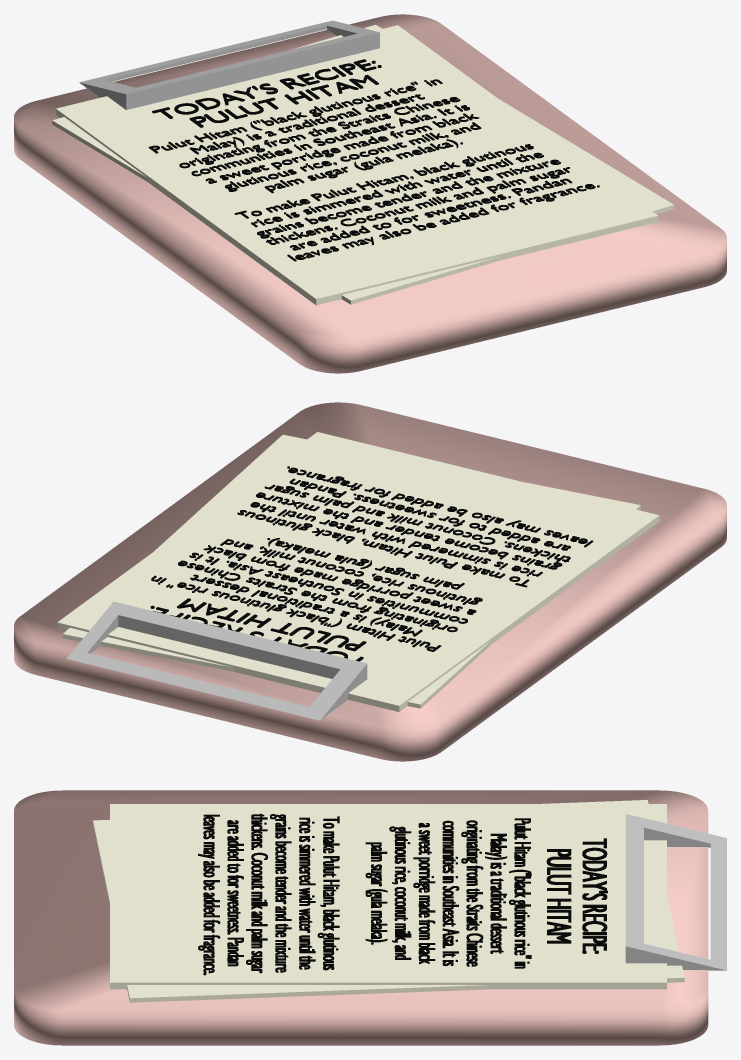
File: PHclipboard.fbx
The picture shows the model from 3 angles, top to bottom: view 1: azimuth 30°, elevation 25°; view 2: azimuth 150°, elevation 25°; view 3: azimuth 270°, elevation 25°; orthographic projection. The views are drawn at different scales.
Parts seen in each view (by area): view 1: Cube.004, obj_0.005, Text.003, Cube.003, Cube.005, Text.004; view 2: Cube.004, obj_0.005, Text.003, Cube.003, Cube.005, Text.004; view 3: Cube.004, obj_0.005, Text.003, Cube.003, Cube.005, Text.004.
Part boxes in pixels (bbox=[...]): Cube.004: bbox=[56, 25, 658, 305]; obj_0.005: bbox=[14, 14, 726, 373]; Text.003: bbox=[148, 79, 599, 261]; Cube.003: bbox=[79, 20, 379, 109]; Cube.005: bbox=[52, 24, 674, 304]; Text.004: bbox=[152, 59, 381, 127]; Cube.004: bbox=[57, 432, 659, 711]; obj_0.005: bbox=[14, 402, 726, 761]; Text.003: bbox=[151, 466, 593, 651]; Cube.003: bbox=[66, 601, 367, 720]; Cube.005: bbox=[63, 434, 640, 708]; Text.004: bbox=[150, 598, 366, 661]; Cube.004: bbox=[110, 804, 666, 989]; obj_0.005: bbox=[14, 790, 708, 1045]; Text.003: bbox=[198, 813, 531, 975]; Cube.003: bbox=[625, 814, 726, 970]; Cube.005: bbox=[93, 800, 684, 1002]; Text.004: bbox=[546, 838, 607, 953].
Bounding box in the file's own units: 263 × 32.69 × 360.
